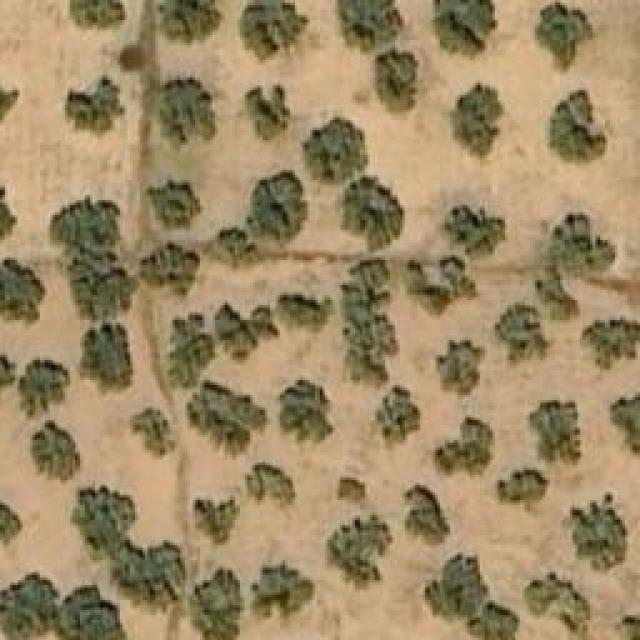Tree: (341, 260, 398, 388), (188, 380, 268, 455), (560, 493, 628, 573), (328, 513, 395, 588), (520, 570, 589, 640), (300, 117, 368, 185), (153, 78, 216, 151), (423, 552, 488, 620), (547, 90, 605, 163), (525, 398, 583, 471), (50, 195, 120, 255), (343, 180, 403, 250), (240, 0, 307, 62), (0, 572, 60, 640), (553, 210, 613, 278), (248, 172, 308, 240), (187, 570, 245, 640), (68, 257, 138, 315), (433, 0, 498, 60), (495, 303, 555, 366), (453, 83, 503, 158), (165, 313, 215, 388), (538, 0, 593, 68), (57, 585, 125, 640), (435, 415, 495, 475), (278, 380, 333, 445), (65, 77, 125, 135), (215, 302, 273, 360), (253, 565, 316, 618), (398, 485, 451, 548), (445, 205, 505, 260), (140, 243, 200, 298), (83, 325, 133, 390), (75, 492, 130, 550), (0, 258, 45, 328), (120, 545, 178, 598), (340, 0, 402, 49), (375, 50, 421, 113), (375, 385, 422, 446), (32, 422, 80, 480), (435, 340, 485, 395), (163, 0, 223, 45), (148, 180, 203, 228), (245, 85, 290, 140), (585, 323, 638, 368), (23, 363, 66, 418), (245, 463, 295, 508), (470, 602, 520, 640), (610, 395, 640, 458), (273, 295, 326, 330), (190, 500, 235, 540), (70, 0, 128, 30), (135, 410, 173, 455), (498, 470, 548, 503), (440, 255, 478, 298), (533, 278, 573, 318), (213, 225, 253, 263), (0, 62, 20, 130), (333, 472, 369, 505), (0, 183, 18, 248), (0, 502, 22, 547), (622, 615, 640, 640)
